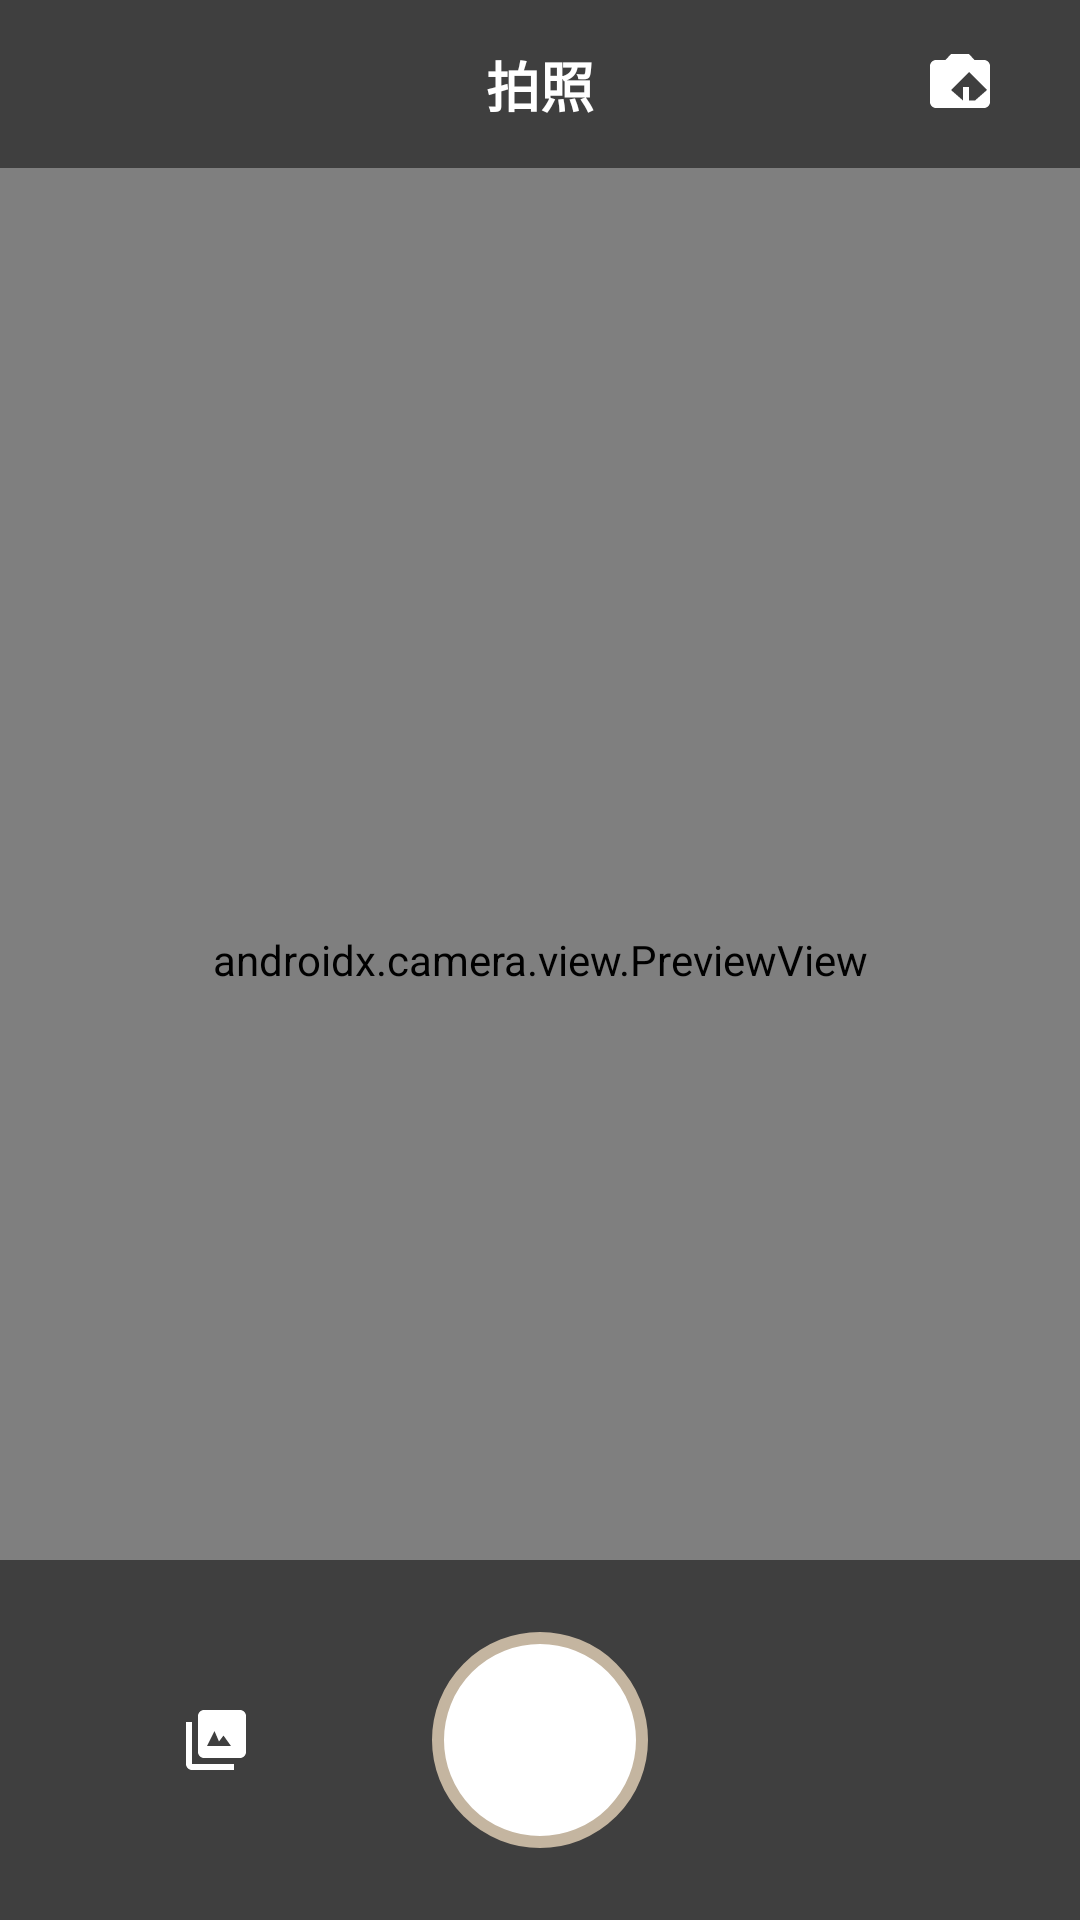

Where to tap for icons on this 1080x1920 app screen, as (x=x, y=y):
camera capture: (x=540, y=1740)
photo library: (x=216, y=1740)
switch camera: (x=960, y=81)
